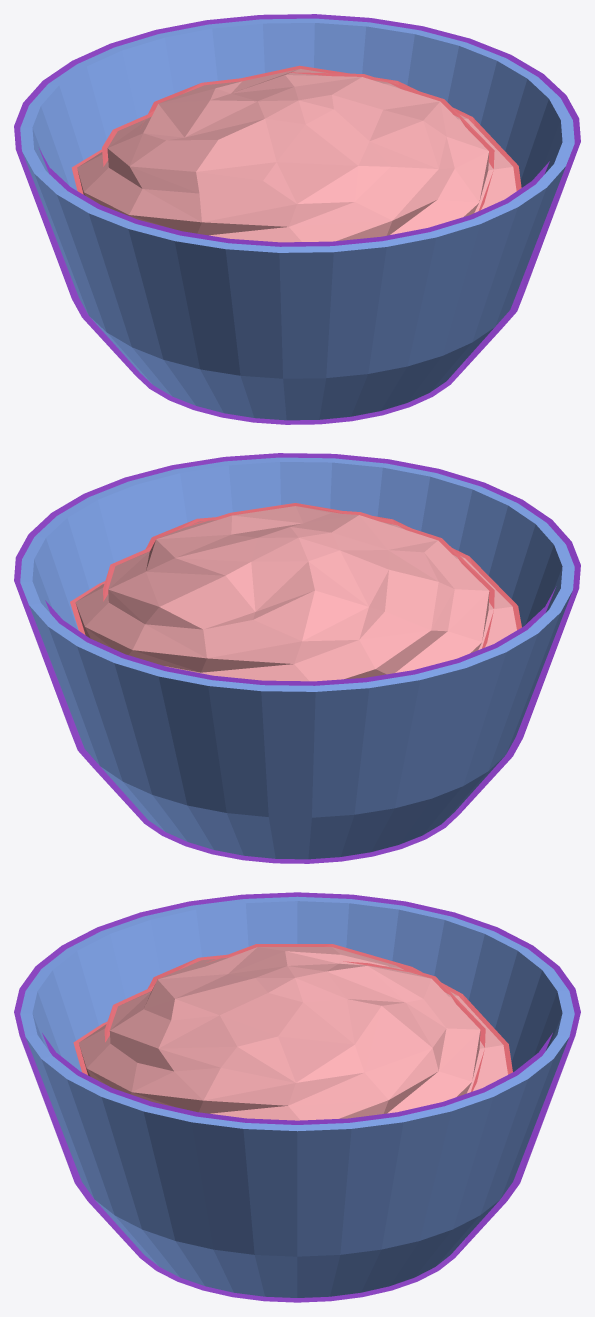
Rendered from massa de morango.glb.
3 renders of one model, top to bottom at view 1: azimuth 30°, elevation 25°; view 2: azimuth 150°, elevation 25°; view 3: azimuth 270°, elevation 25°, orthographic.
Parts seen in each view (by area): view 1: Cylinder.009, chantilly.005; view 2: Cylinder.009, chantilly.005; view 3: Cylinder.009, chantilly.005.
Boxes of the visible parts, <box> form: Cylinder.009: <box>14,14,580,424</box>; chantilly.005: <box>71,65,521,242</box>; Cylinder.009: <box>14,453,580,863</box>; chantilly.005: <box>70,503,521,681</box>; Cylinder.009: <box>14,892,580,1302</box>; chantilly.005: <box>73,944,512,1120</box>.
Bounding box in the file's own units: 20.93 × 10.38 × 20.93.
